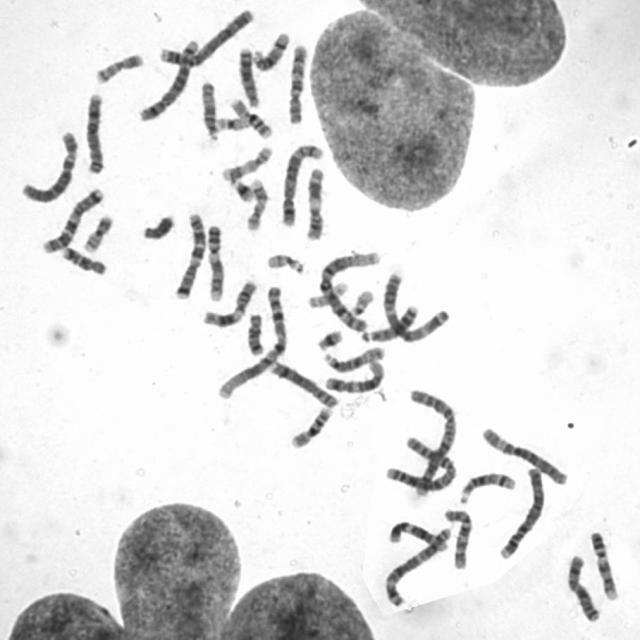A1: (212, 278, 290, 401), (313, 246, 382, 334)
A2: (394, 382, 459, 495), (397, 429, 459, 494)
A3: (379, 520, 453, 608), (377, 266, 452, 344)
B4: (154, 3, 256, 68), (494, 460, 547, 560)
B5: (134, 32, 202, 123), (276, 136, 326, 230)
C10: (282, 38, 310, 126), (440, 502, 475, 571)
C11: (198, 274, 260, 328), (300, 162, 327, 242)
C12: (320, 355, 386, 394), (384, 516, 451, 552)
C6: (476, 421, 571, 486), (15, 124, 80, 203)
C7: (38, 183, 106, 254), (169, 207, 208, 300)
C8: (264, 355, 340, 410), (79, 87, 106, 175)
C9: (585, 526, 621, 601), (202, 219, 227, 303)
D13: (355, 298, 421, 344), (234, 41, 262, 108)
D14: (454, 466, 518, 504), (249, 27, 292, 72)
D15: (317, 341, 386, 373), (196, 75, 221, 142)
E16: (286, 400, 334, 450), (225, 93, 274, 139)
E17: (216, 139, 275, 183), (242, 173, 270, 232)
E18: (55, 241, 108, 276), (242, 308, 266, 357)
F19: (303, 276, 350, 309), (212, 110, 250, 132)
F20: (90, 46, 145, 85), (78, 208, 116, 254)
G21: (312, 324, 346, 352), (228, 173, 256, 203)
G22: (262, 247, 308, 275), (346, 284, 376, 317)
X: (562, 549, 602, 623)
Y: (137, 209, 177, 241)
